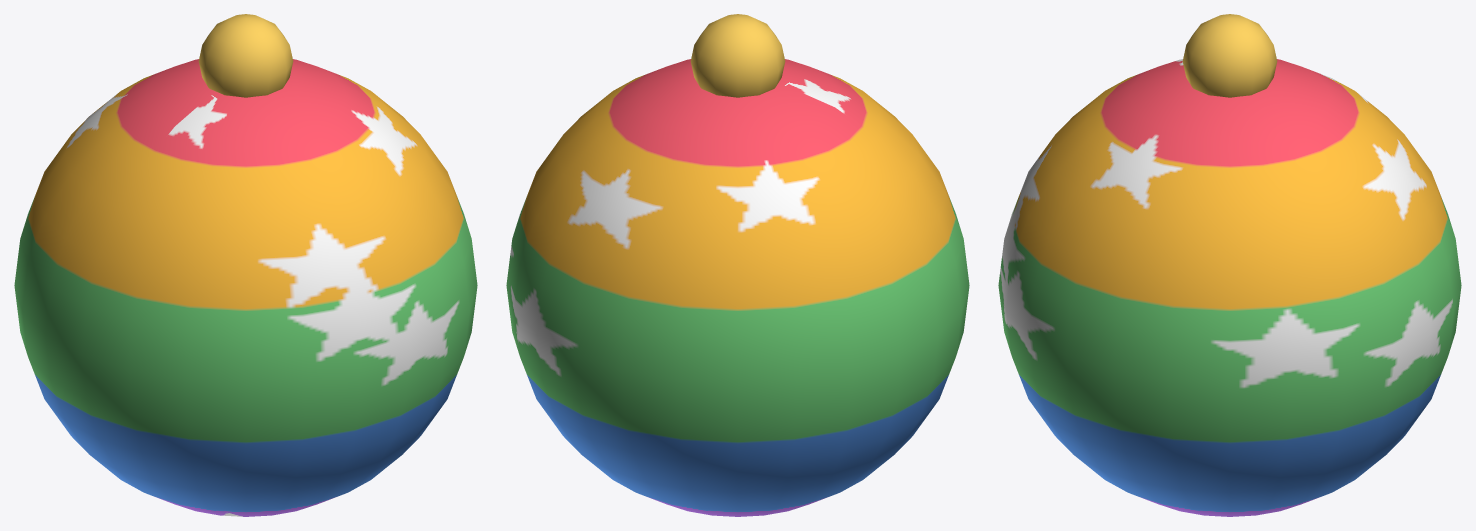
Rendered from Toy_JingleBall.fbx.
3 renders of one model, left to right at view 1: azimuth 30°, elevation 25°; view 2: azimuth 150°, elevation 25°; view 3: azimuth 270°, elevation 25°, orthographic.
Parts seen in each view (by area): view 1: JingleBall; view 2: JingleBall; view 3: JingleBall.
Part boxes in pixels (x1=…): JingleBall: x1=14, y1=14, x2=477, y2=516; JingleBall: x1=506, y1=14, x2=969, y2=516; JingleBall: x1=998, y1=14, x2=1461, y2=516.
Bounding box in the file's own units: 0.44 × 0.5 × 0.44.
Materials: 1 (1 with a texture image).
